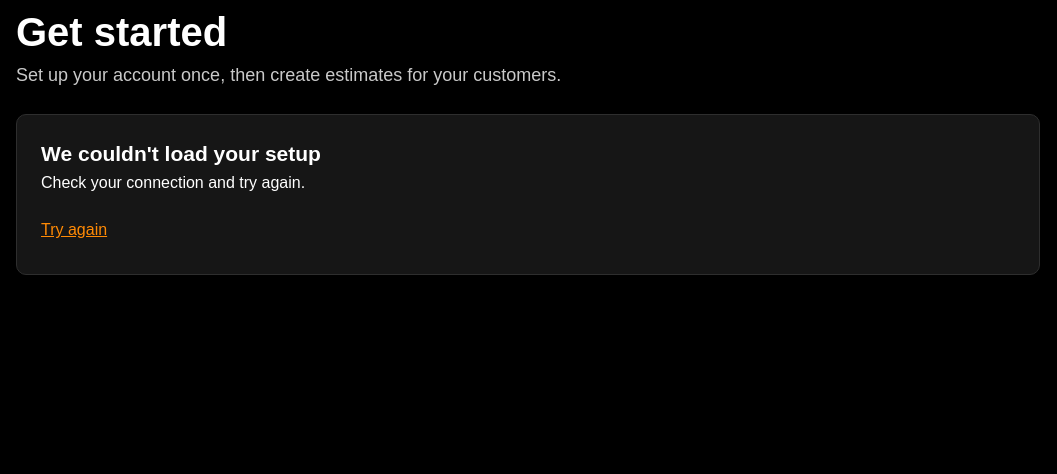
it: Get started page (#32, PRD v0.6) › shows an error with a retry
expect the message "We couldn't load your setup Check your connection and try again. Try again" is shown: met, box 16,114 -> 1040,275
Click the button "Try again": [74, 230] box 41,208 -> 107,252
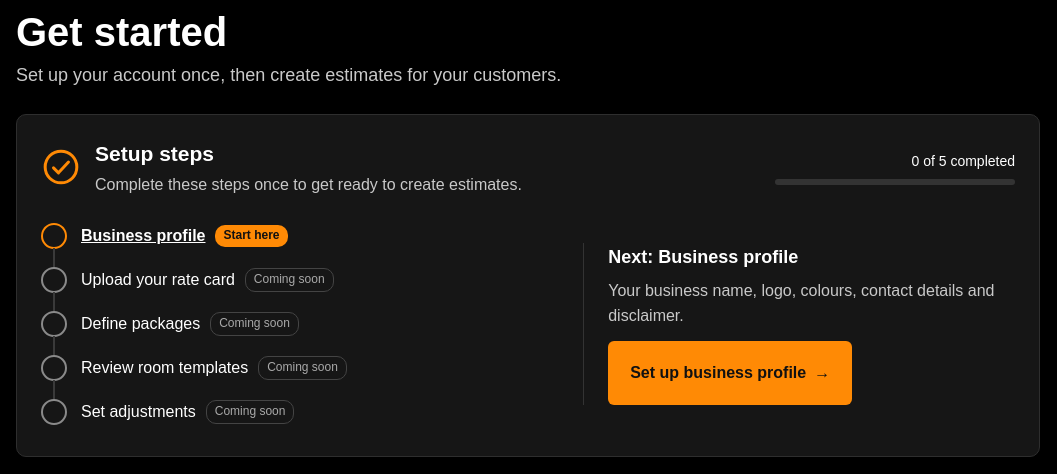
expect the element "Setup steps" is shown: met
